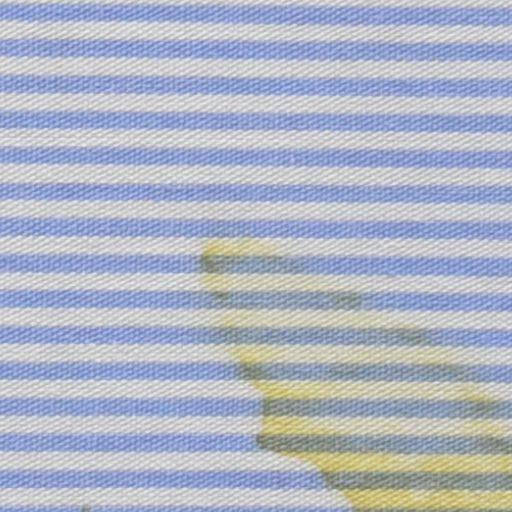defect: (204, 244, 512, 512)
